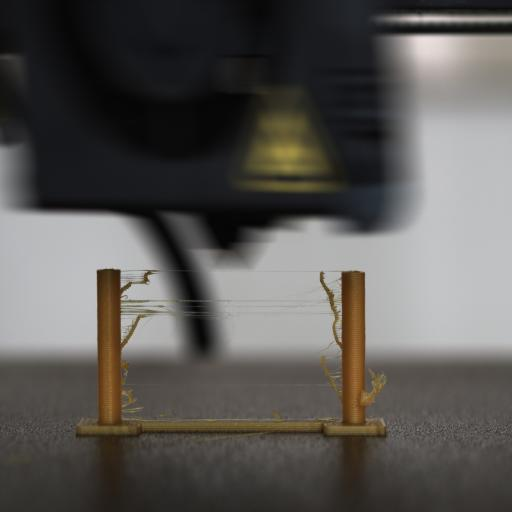stringing: (120, 266, 344, 338)
